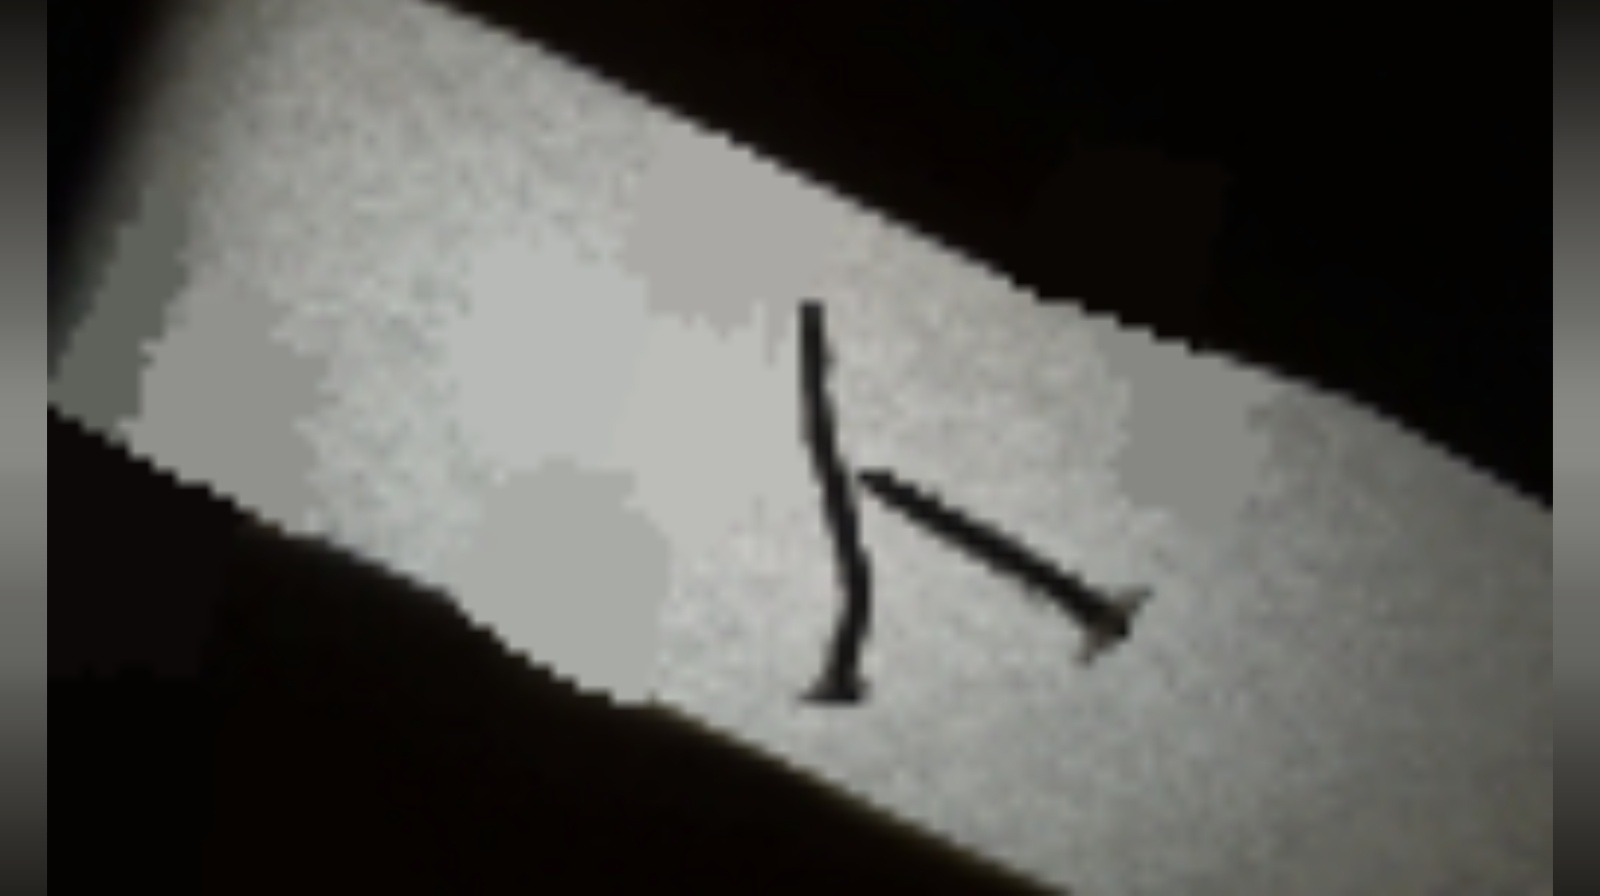S001: (832, 440, 1148, 671)
S002: (773, 275, 890, 708)
